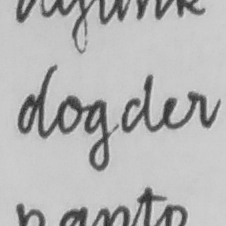d: (14, 62, 53, 140), (119, 72, 155, 135)
e: (158, 93, 180, 132)
g: (84, 97, 116, 172)
o: (54, 93, 82, 135)
r: (182, 89, 211, 129)
